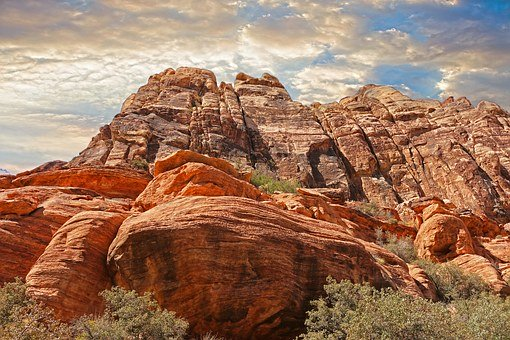mountain: (44, 63, 504, 340)
sky: (5, 3, 507, 102)
